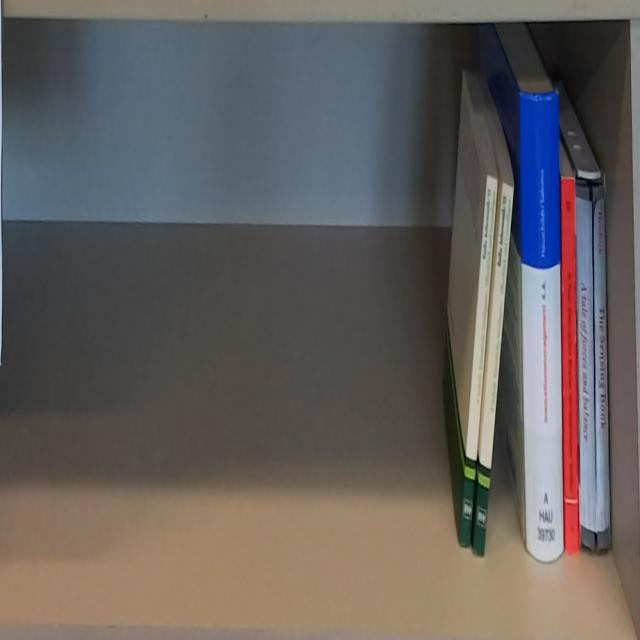Book Spine: (520, 92, 564, 564), (472, 182, 514, 561), (459, 176, 498, 546), (577, 181, 611, 552), (562, 178, 579, 553)
